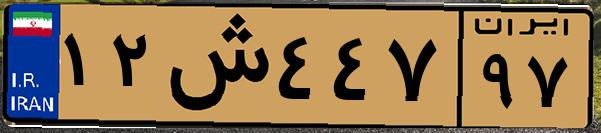1: (57, 26, 110, 100)
2: (110, 28, 158, 98)
4: (270, 28, 330, 110), (330, 28, 385, 110)
7: (385, 28, 445, 110), (525, 38, 570, 115)
9: (475, 38, 525, 113)
ش: (158, 12, 270, 120)
